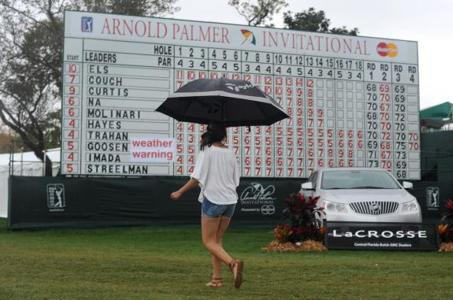person: (171, 120, 245, 290)
